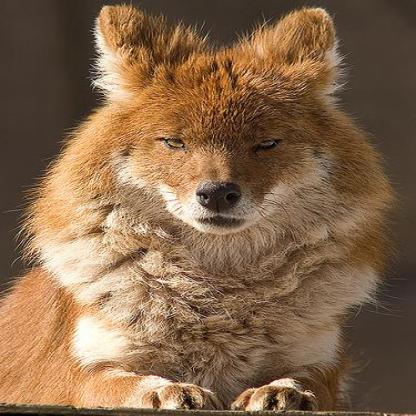dhole: (7, 3, 395, 411)
